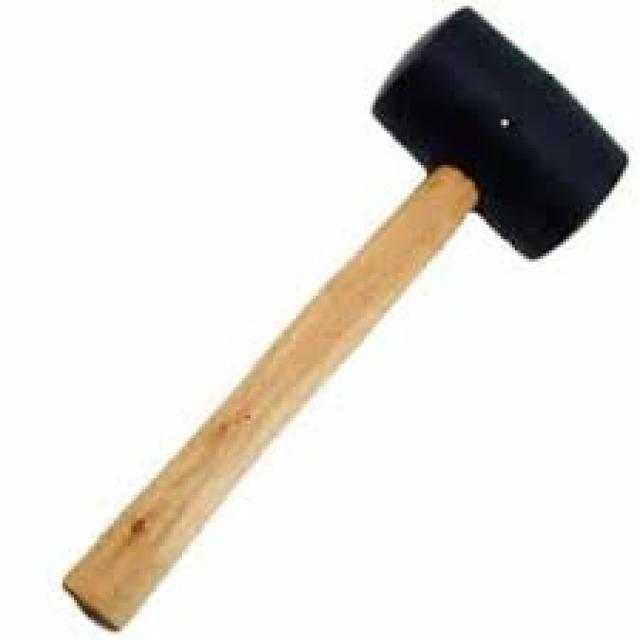Palu: (52, 13, 618, 637)
